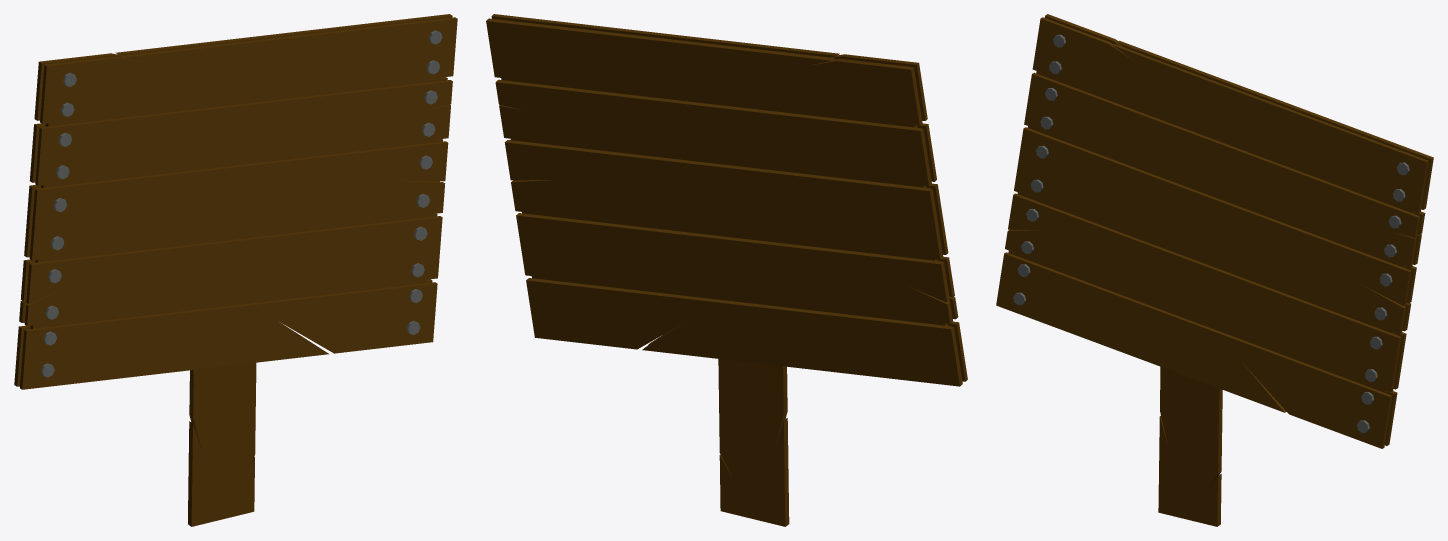
File: cartello legno.fbx
3 renders of one model, left to right at view 1: azimuth 30°, elevation 25°; view 2: azimuth 150°, elevation 25°; view 3: azimuth 330°, elevation 25°, orthographic. The views are drawn at different scales.
Visible parts, largest first — view 1: pCube24; view 2: pCube24; view 3: pCube24.
Part boxes in pixels (bbox=[...]): pCube24: bbox=[14, 14, 457, 526]; pCube24: bbox=[486, 14, 967, 526]; pCube24: bbox=[996, 14, 1433, 526].
Bounding box in the file's own units: 5.05 × 5.25 × 0.4081.
